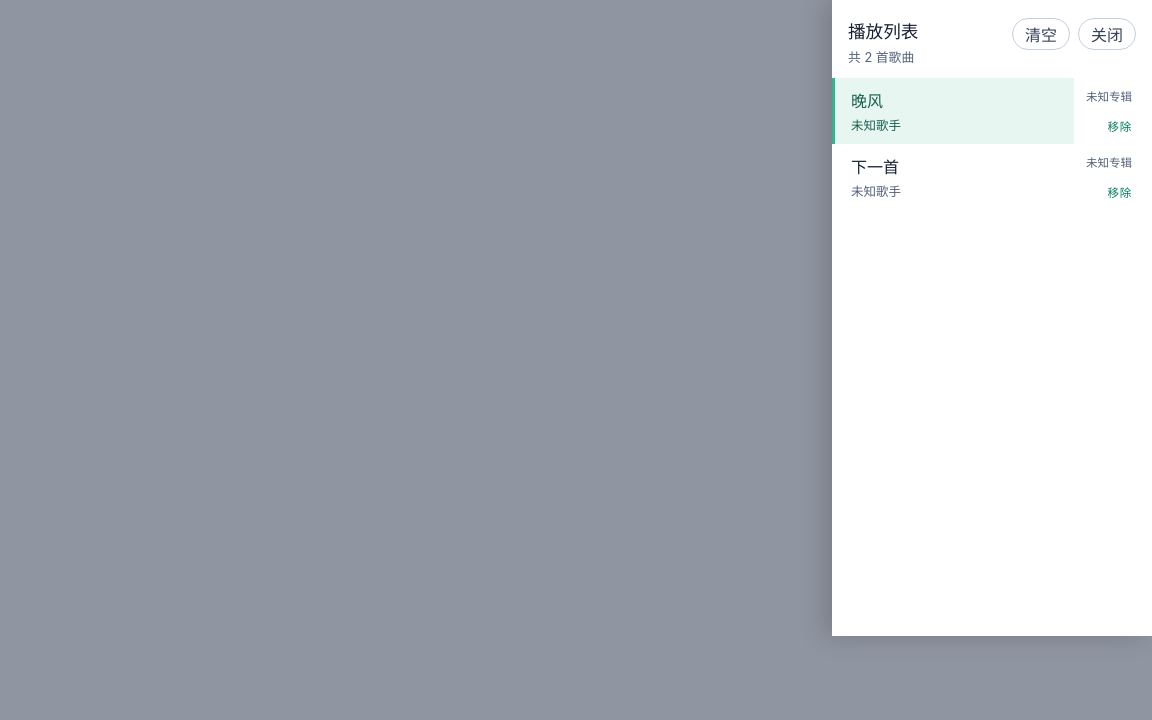
Test case: PlayerQueueDrawer › removes a queued song without playing or closing the drawer
The image size is (1152, 720).
What coordinates should you click on to do the following:
click the 2nd button with test id "player-queue-remove"
I would click on:
 (1120, 192)
Its box is 1100,180 -> 1140,204.
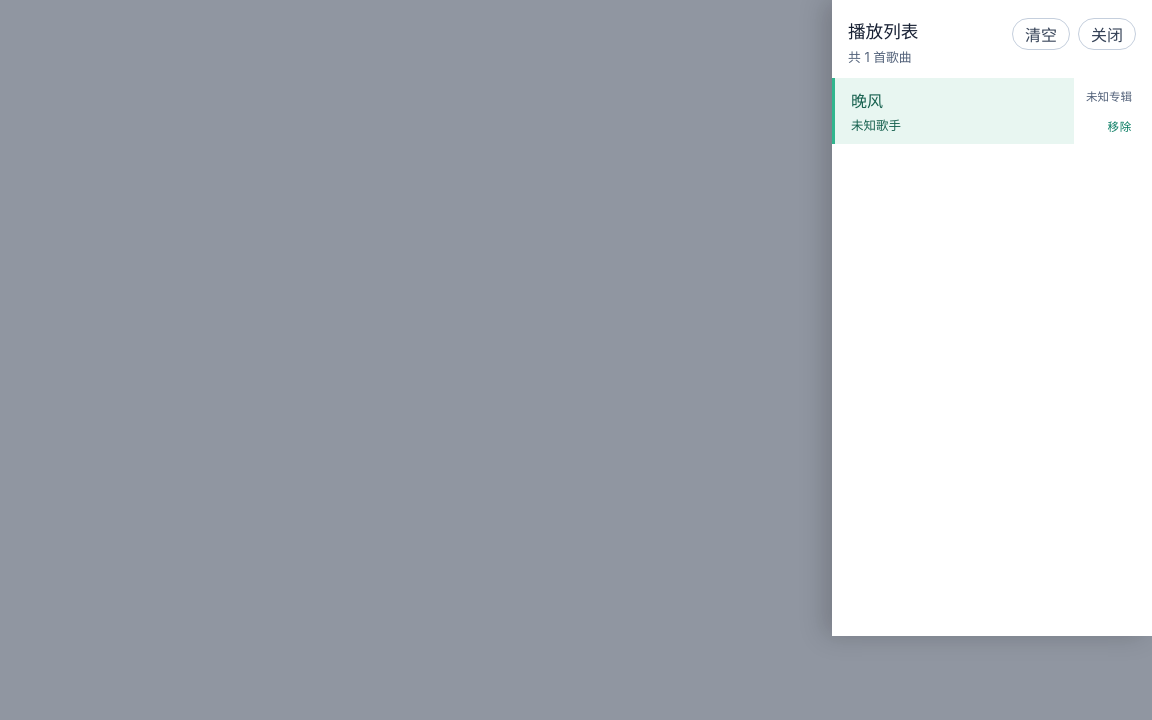
Check: the button with test id "player-queue" no longer shows "下一首"
